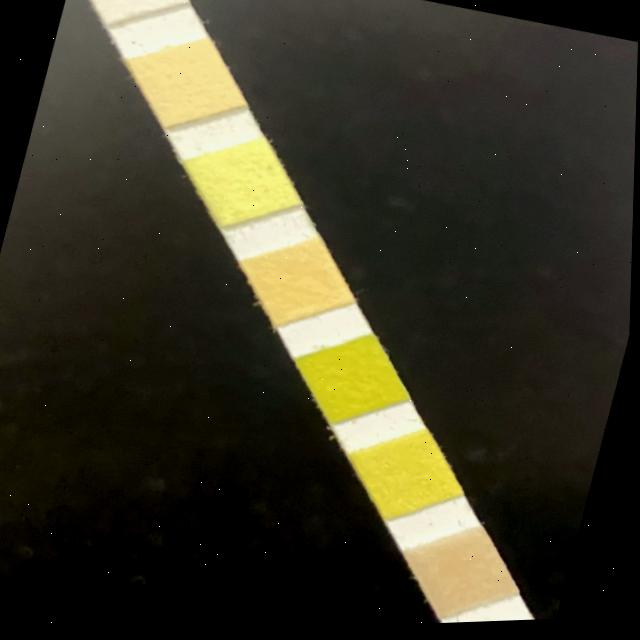Blood: (314, 350, 393, 413)
Ketone: (425, 547, 503, 610)
Protein: (205, 153, 283, 215)
SpGravity: (369, 447, 448, 509)
Urobilinogen: (147, 54, 226, 116)
pH: (259, 252, 337, 314)
